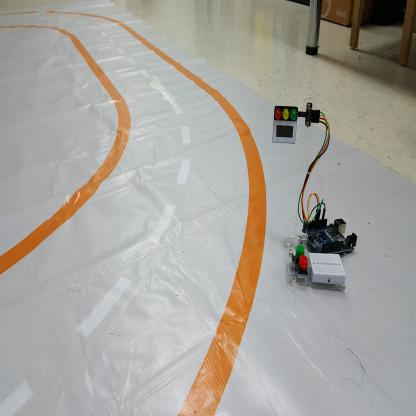traffic-light: (271, 102, 300, 122)
